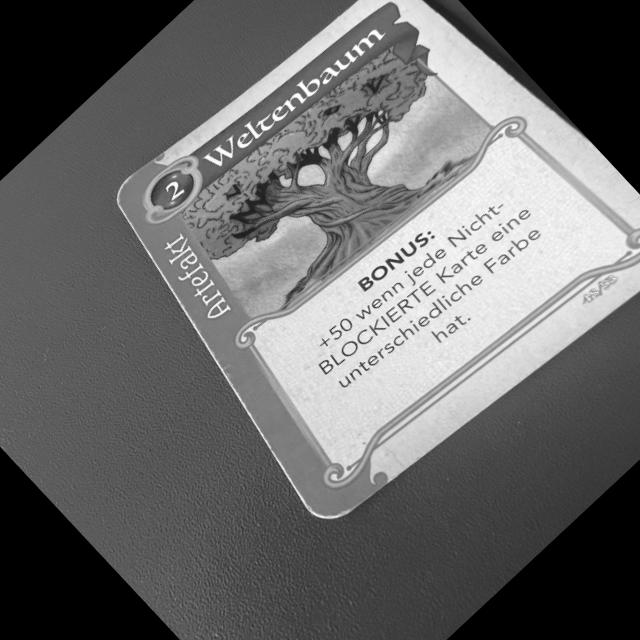World Tree: (110, 0, 640, 534)
